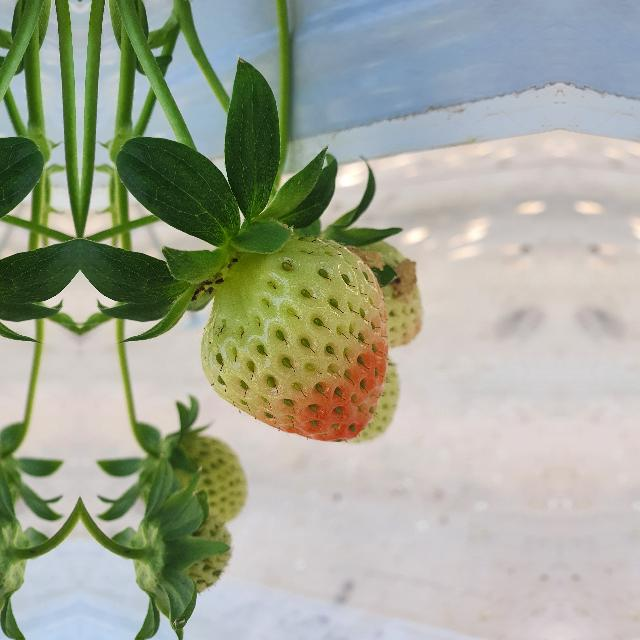Health_50: (200, 236, 388, 442)
